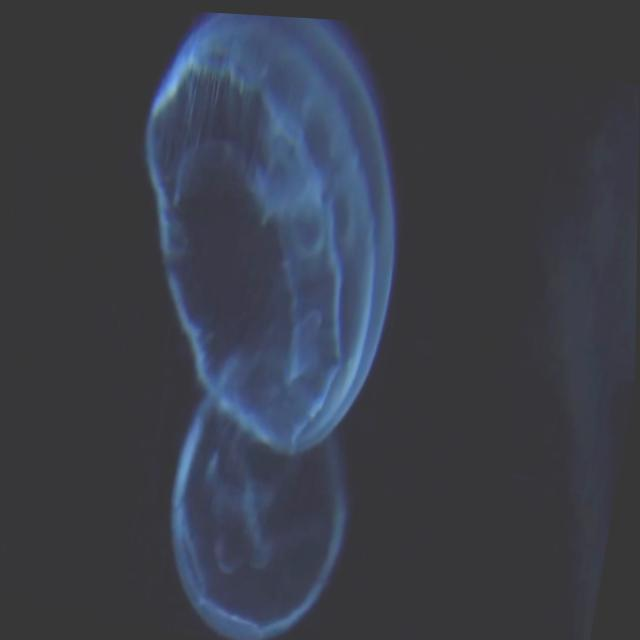Moon-jellyfish: (143, 9, 402, 449), (170, 383, 352, 640)
